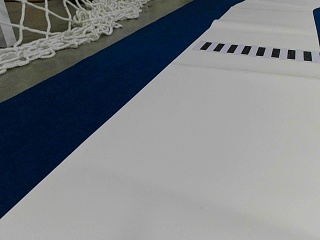crosswalk: (199, 41, 314, 60)
